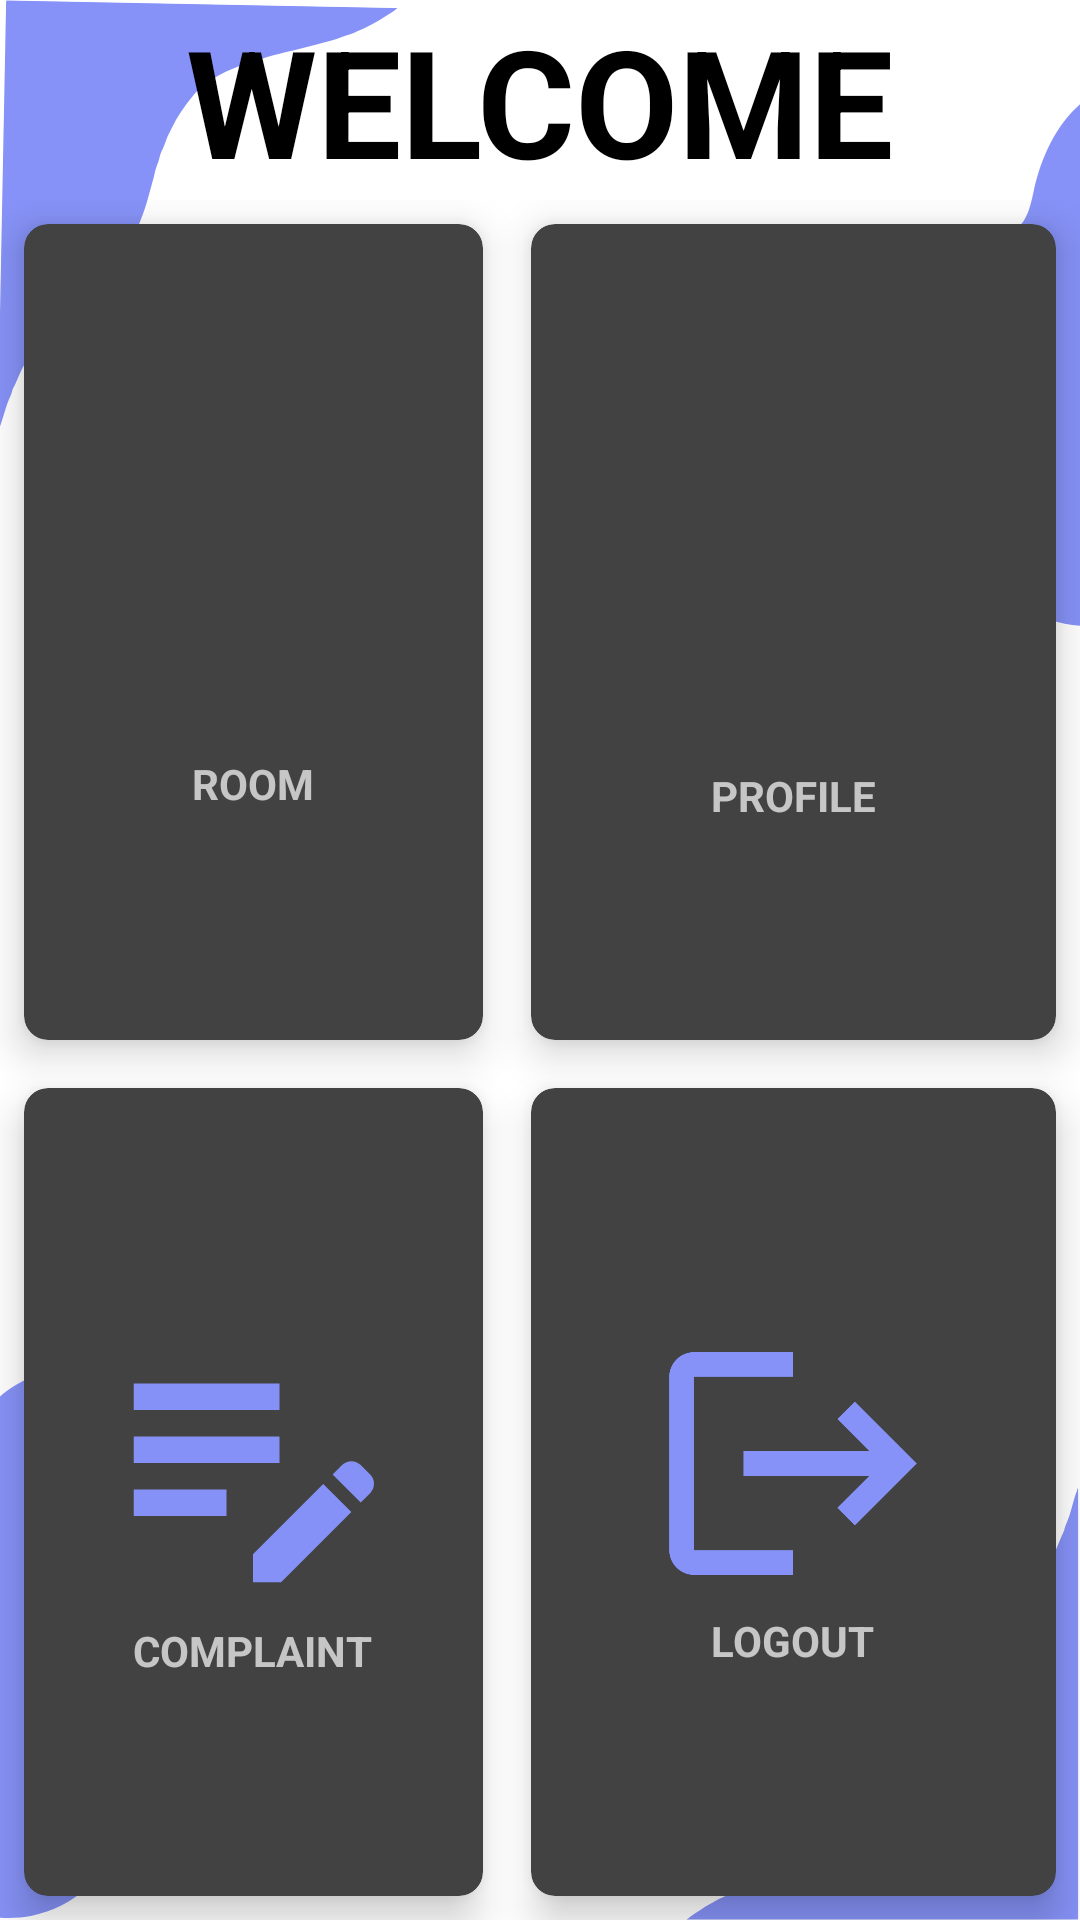

Icon click points for this 1080*1920 phone screenshot, format point (x, y):
edit note: point (253, 1483)
